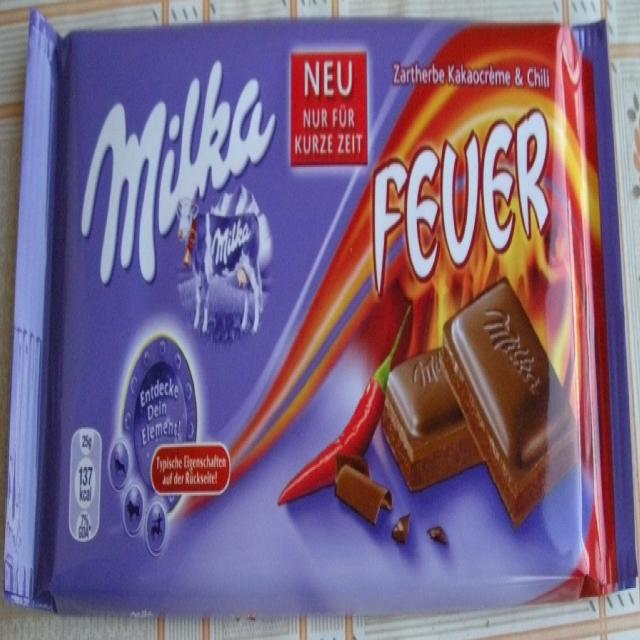milka: (79, 58, 279, 347)
